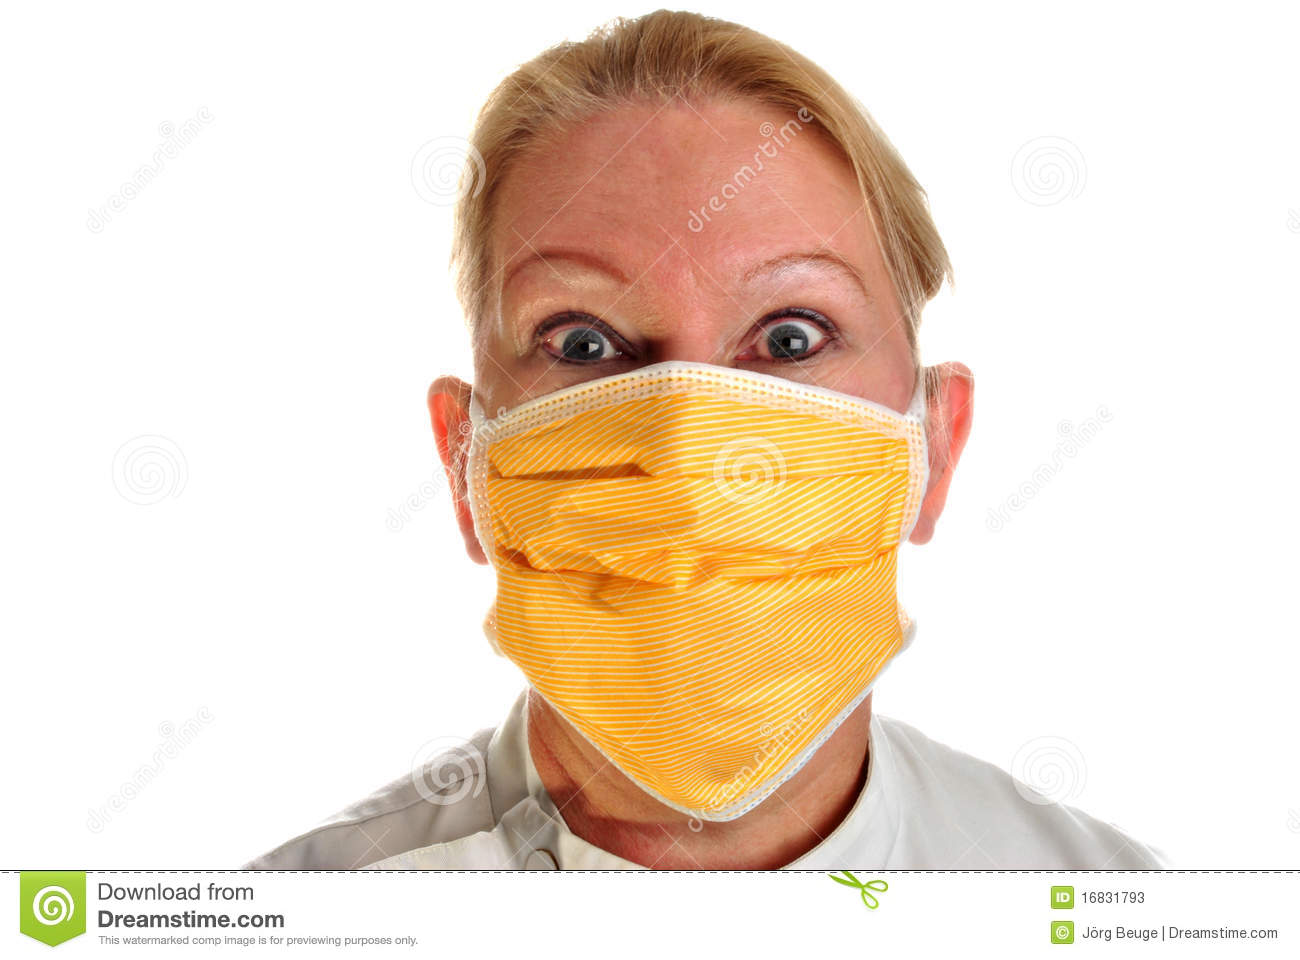mask: (450, 386, 939, 787)
